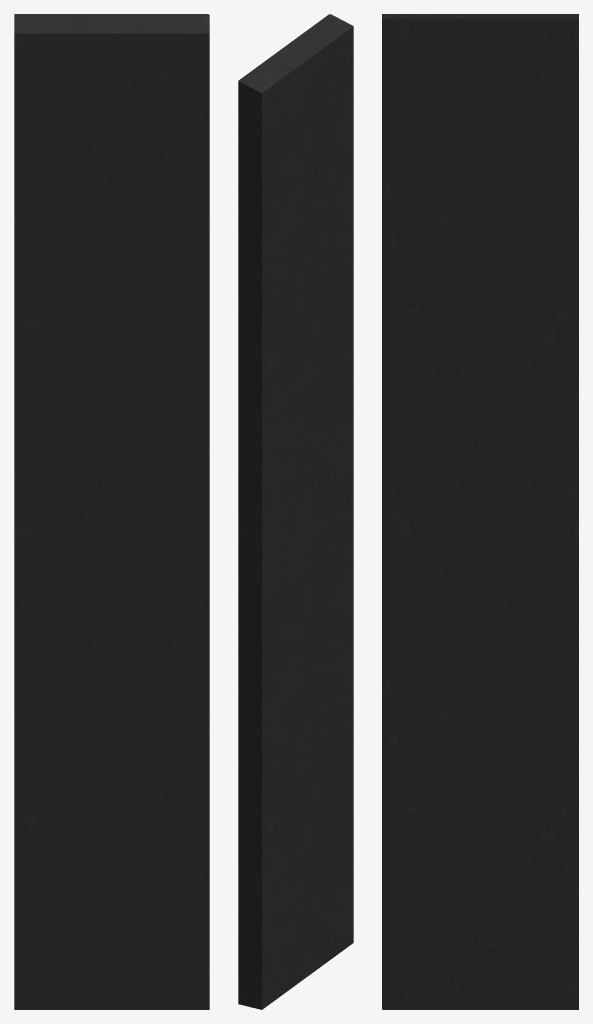
Rendered from A13.1.1 H.WALL. PNL 5551.fbx.
The picture shows the model from 3 angles, left to right: view 1: azimuth 90°, elevation 25°; view 2: azimuth 150°, elevation 25°; view 3: azimuth 270°, elevation 25°; orthographic projection. The views are drawn at different scales.
Visible parts, largest first — view 1: Model; view 2: Model; view 3: Model.
Boxes of the visible parts, bbox=[...] form: Model: bbox=[14, 14, 209, 1009]; Model: bbox=[238, 14, 353, 1009]; Model: bbox=[382, 14, 578, 1009].
Size of the model in its own units: 150 by 5551 by 1000.
1 material, 1 textured.
